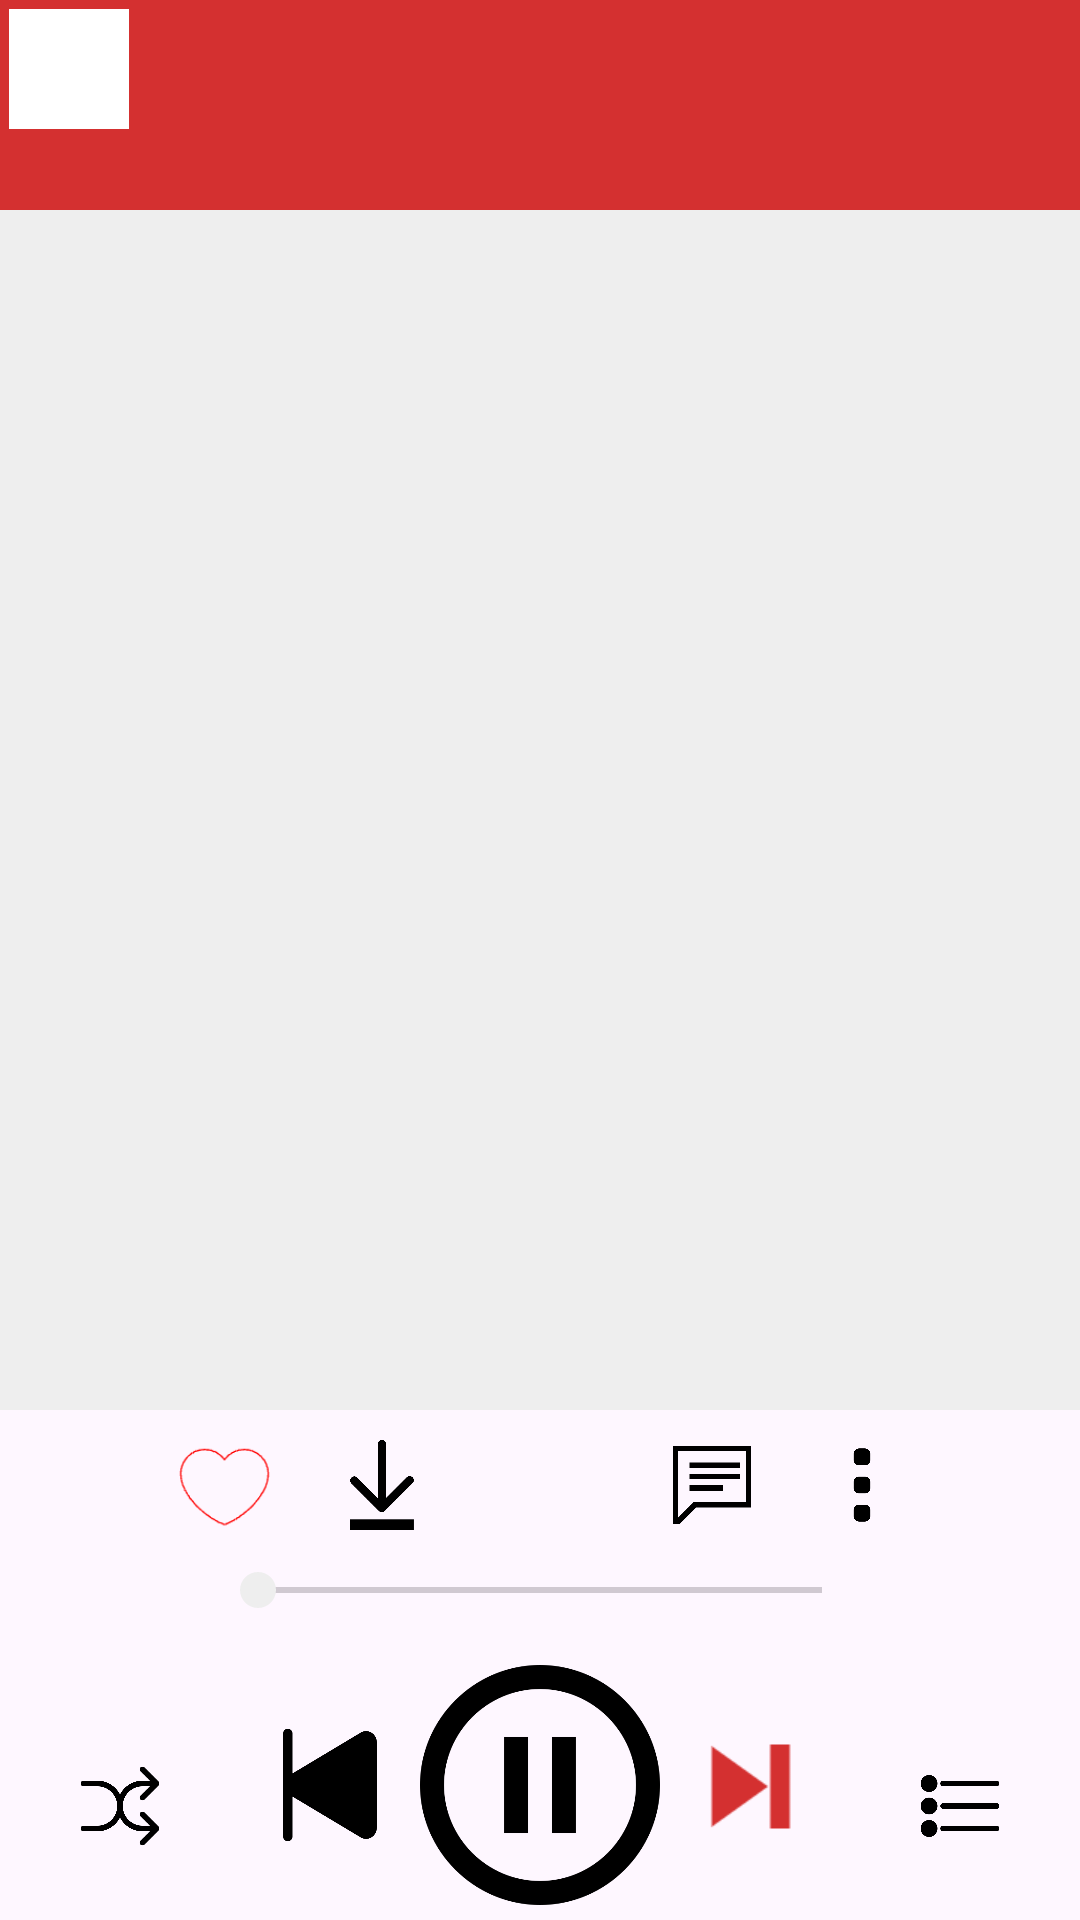

Screen size 1080px x 1920px. Icon name, then its center in pixels as (x=x, y=y):
comment: (x=712, y=1485)
download: (x=382, y=1485)
favour: (x=224, y=1487)
menu: (x=960, y=1806)
more: (x=862, y=1485)
next song: (x=751, y=1786)
play: (x=540, y=1785)
pre song: (x=330, y=1785)
random: (x=120, y=1806)
